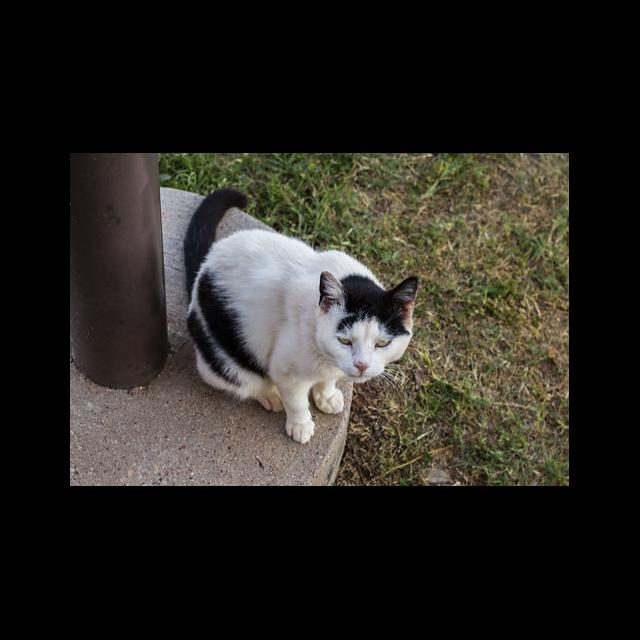animals: (184, 188, 419, 444)
